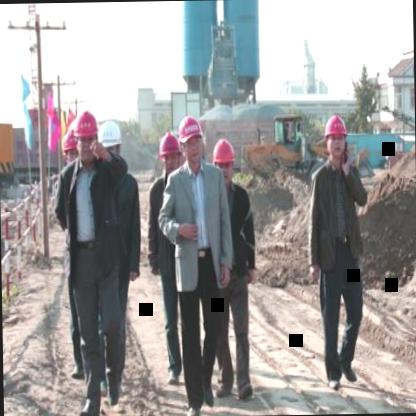helmet: (97, 116, 126, 171), (324, 110, 352, 166), (178, 110, 205, 168), (74, 107, 100, 164), (212, 135, 239, 186), (157, 128, 182, 179), (61, 128, 82, 170)
